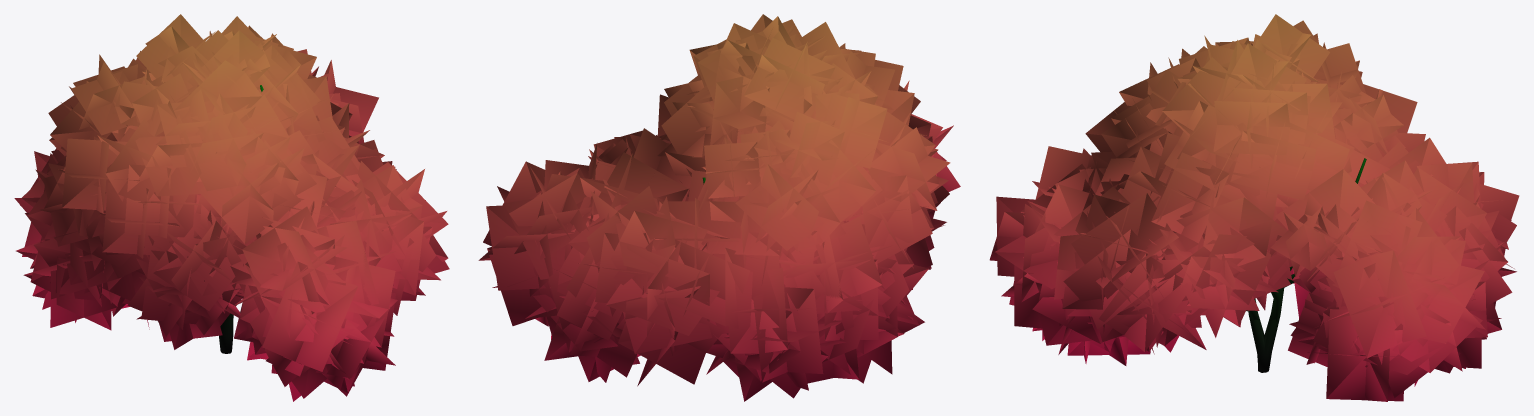
File: TSI_Broadleaf_Shrub_01A.fbx
3 renders of one model, left to right at view 1: azimuth 30°, elevation 25°; view 2: azimuth 150°, elevation 25°; view 3: azimuth 270°, elevation 25°, orthographic.
Visible parts, largest first — view 1: TSI_Broadleaf_Shrub_01A_LOD0; view 2: TSI_Broadleaf_Shrub_01A_LOD0; view 3: TSI_Broadleaf_Shrub_01A_LOD0.
Part boxes in pixels (x1=…): TSI_Broadleaf_Shrub_01A_LOD0: x1=14, y1=14, x2=449, y2=401; TSI_Broadleaf_Shrub_01A_LOD0: x1=478, y1=14, x2=960, y2=401; TSI_Broadleaf_Shrub_01A_LOD0: x1=989, y1=14, x2=1519, y2=401.
Size of the model in its own units: 667 by 552 by 796.
